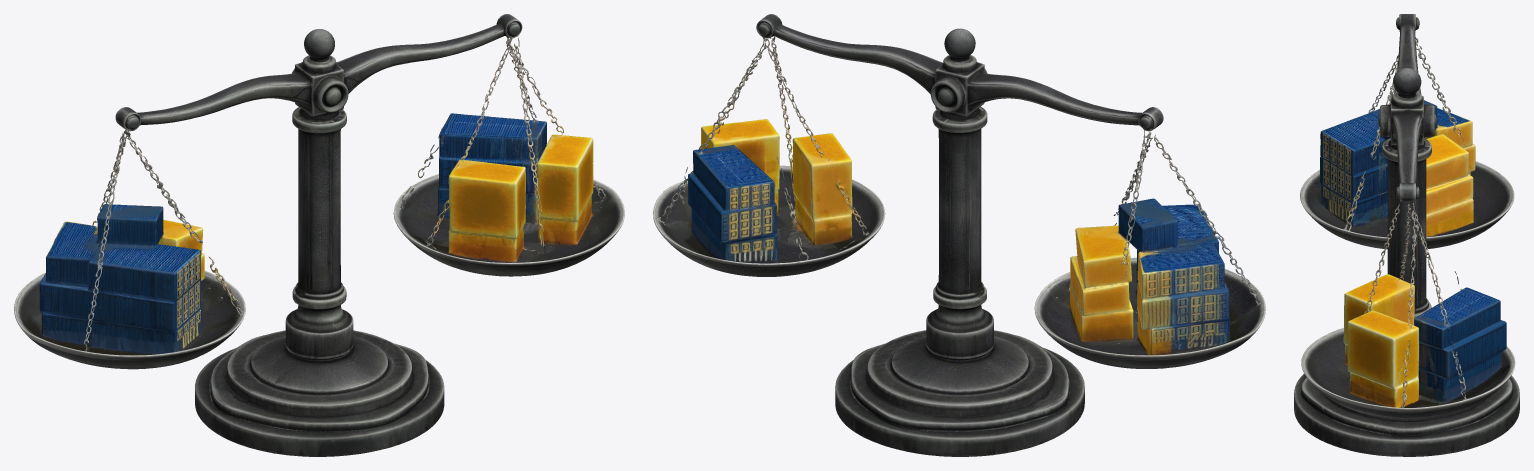
3 views of the same model, side by side, from view 1: azimuth 30°, elevation 25°; view 2: azimuth 150°, elevation 25°; view 3: azimuth 270°, elevation 25° (orthographic). The views are drawn at different scales.
Bounding box in the file's own units: 1.9 × 1.16 × 0.6969.
Materials: 1 (1 with a texture image).
